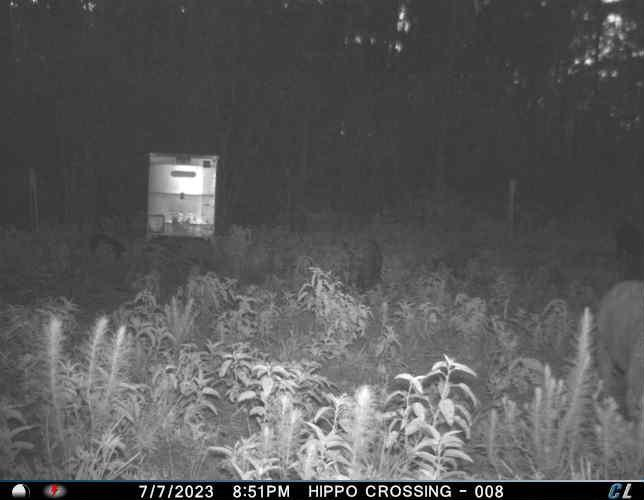Hog: (595, 278, 644, 420), (346, 237, 384, 300), (615, 220, 644, 262)
